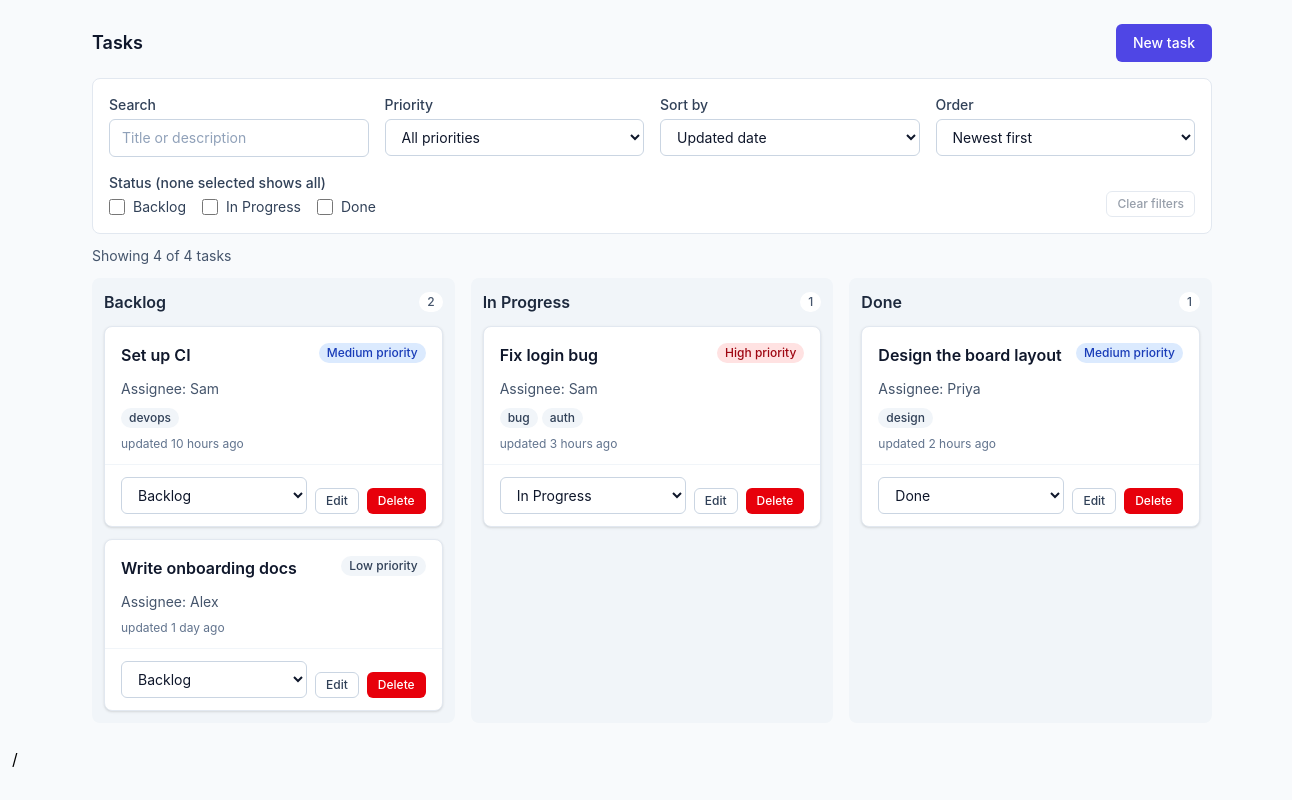
it: filtering and sorting › searches titles and descriptions
This screenshot has width=1292, height=800.
// "sign in" only appears in the description of "Fix login bug".
Type "sign in" into the search field labelled "Search" at (239, 138), box [109, 119, 368, 157]
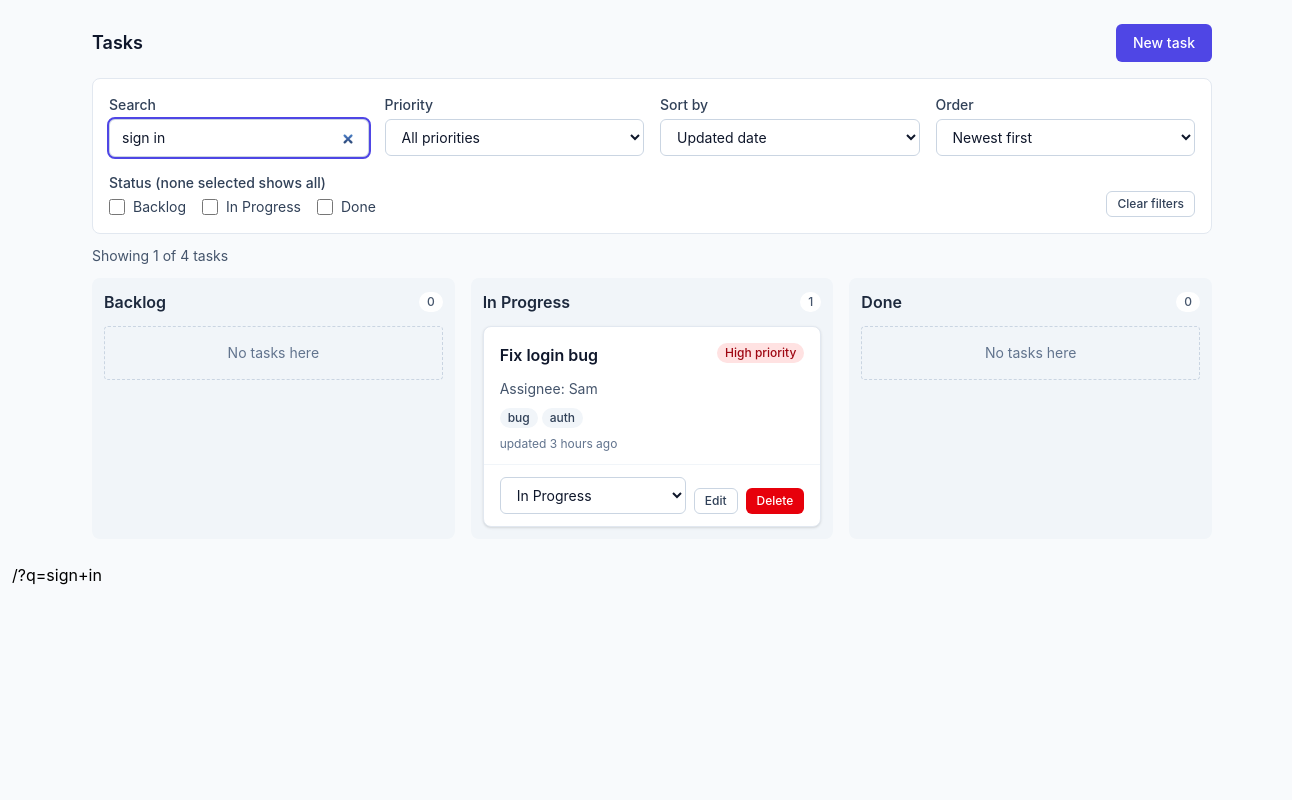
Expected: the heading "Fix login bug" is shown, [500, 343, 598, 367]
Result: the text "Showing 1 of 4 tasks" is shown at [92, 247, 228, 264]
Result: the heading "Set up CI" is gone
